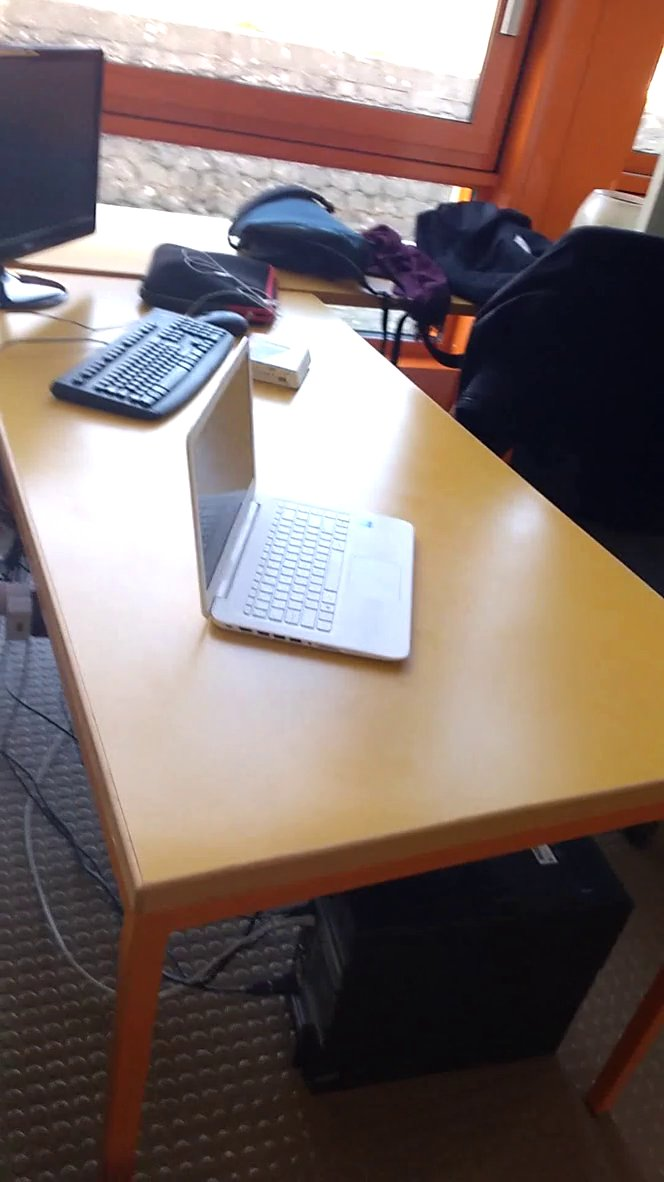bag: (410, 194, 582, 309), (224, 180, 377, 297)
laptop: (168, 329, 427, 679)
